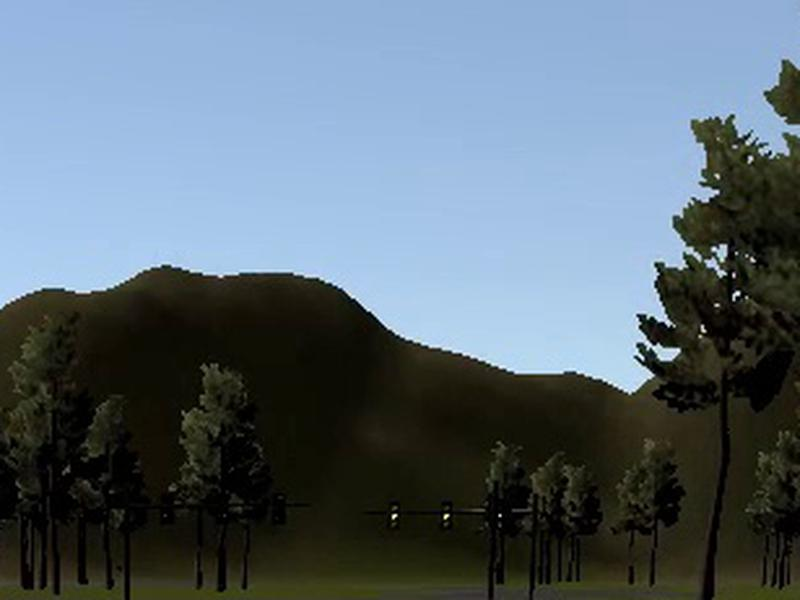Yellow: (439, 499, 453, 531), (388, 500, 401, 532)
